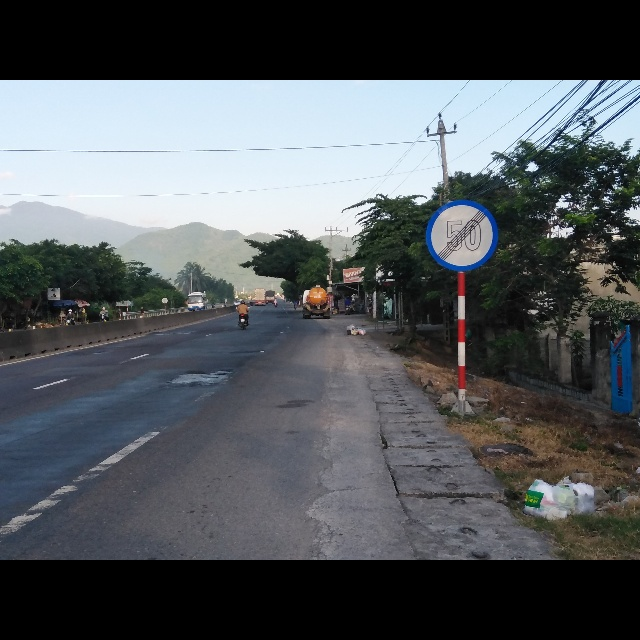Hết hạn chế tốc độ tối đa 50km/h: (423, 197, 499, 271)
